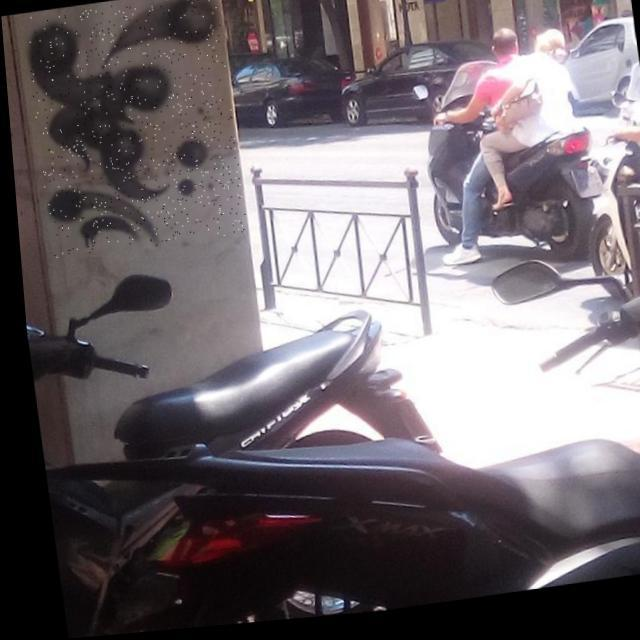-: (20, 0, 244, 262)
